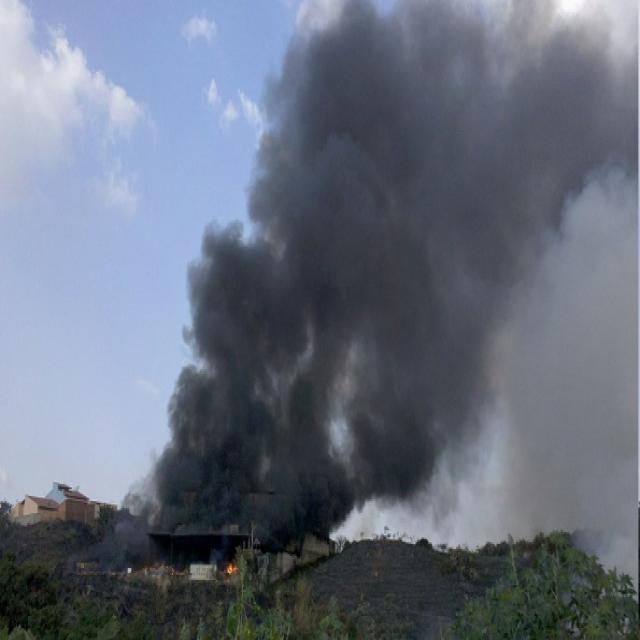Fire: (202, 534, 246, 586)
Smoke: (130, 0, 640, 546)
